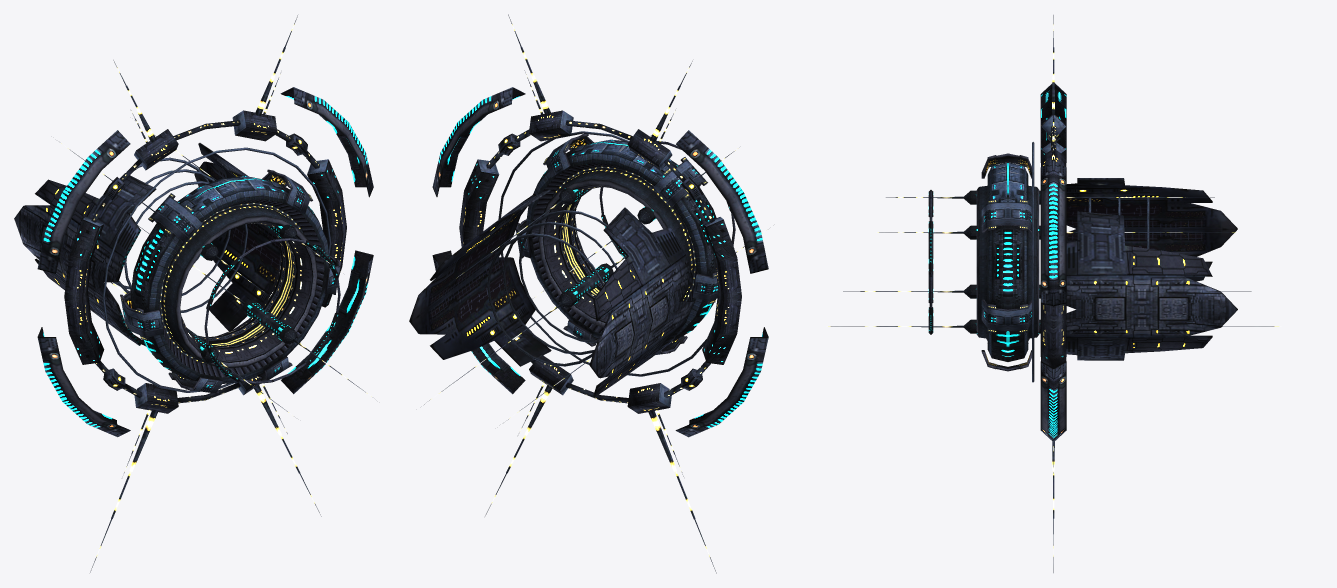
File: xingmen2.FBX
3 renders of one model, left to right at view 1: azimuth 30°, elevation 25°; view 2: azimuth 150°, elevation 25°; view 3: azimuth 270°, elevation 25°, orthographic. The views are drawn at different scales.
Visible parts, largest first — view 1: Box002; view 2: Box002; view 3: Box002.
Part boxes in pixels (<box>): Box002: <box>14,15,373,572</box>; Box002: <box>409,14,768,573</box>; Box002: <box>827,15,1281,572</box>.
Size of the model in its own units: 42750 by 61841 by 62261.
